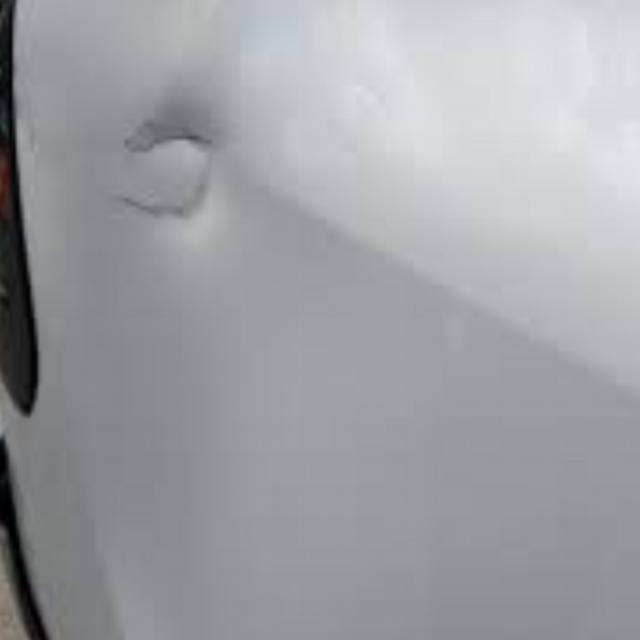dents: (107, 102, 243, 234)
